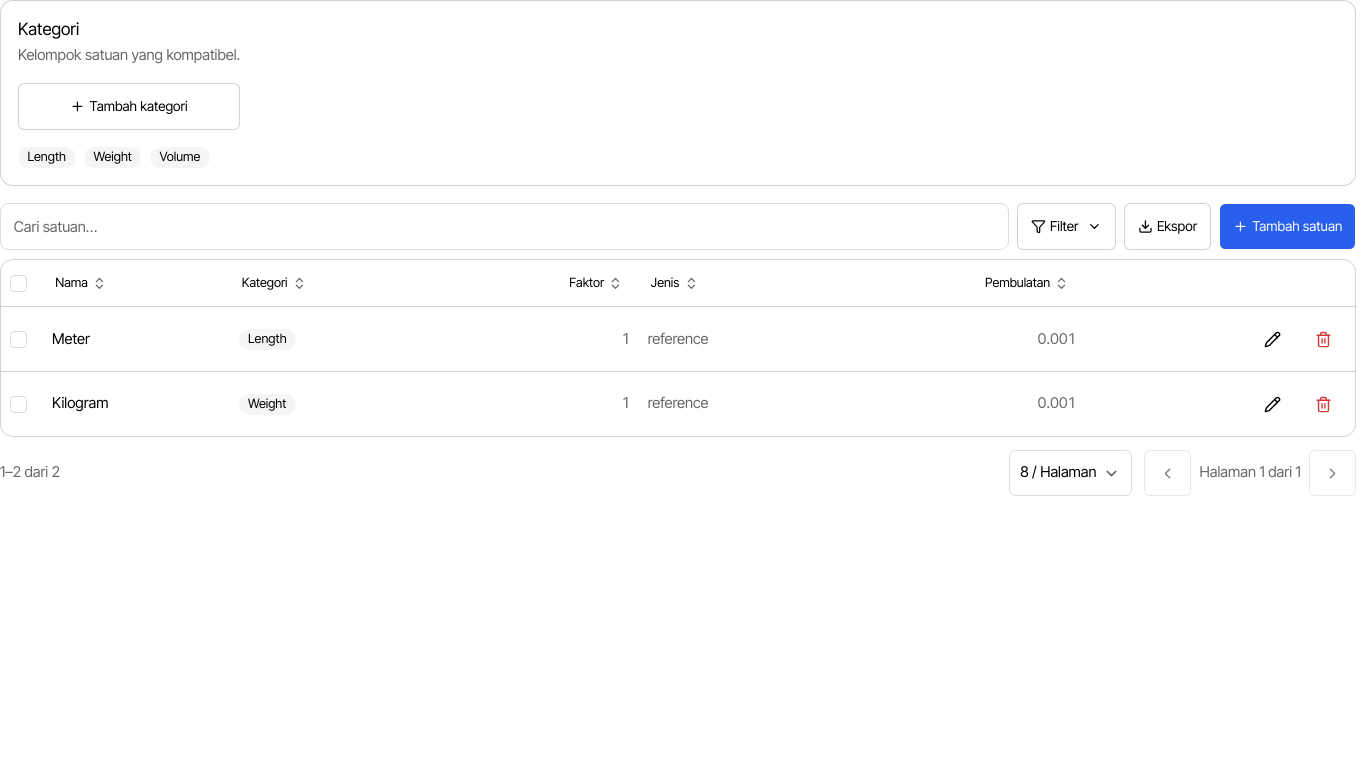
it: UnitsSection › requires a name when adding a UoM
The width and height of the screenshot is (1366, 768).
What coordinates should you click on to do the following:
click the button "Tambah satuan"
I would click on:
 (1288, 227)
Its box is [1219,203,1356,250].
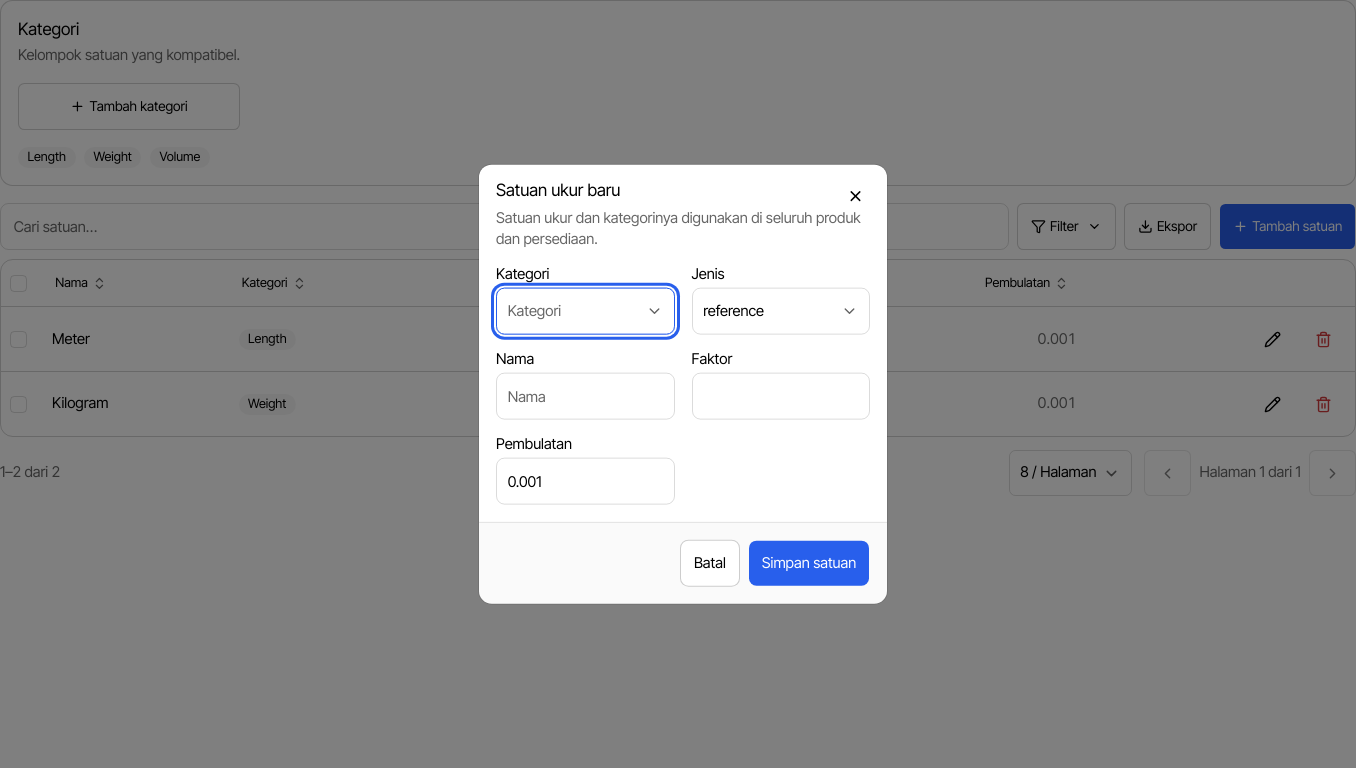
What coordinates should you click on to do the following:
click the button "Simpan satuan"
I would click on:
 (809, 563)
Its box is [748,540,870,586].
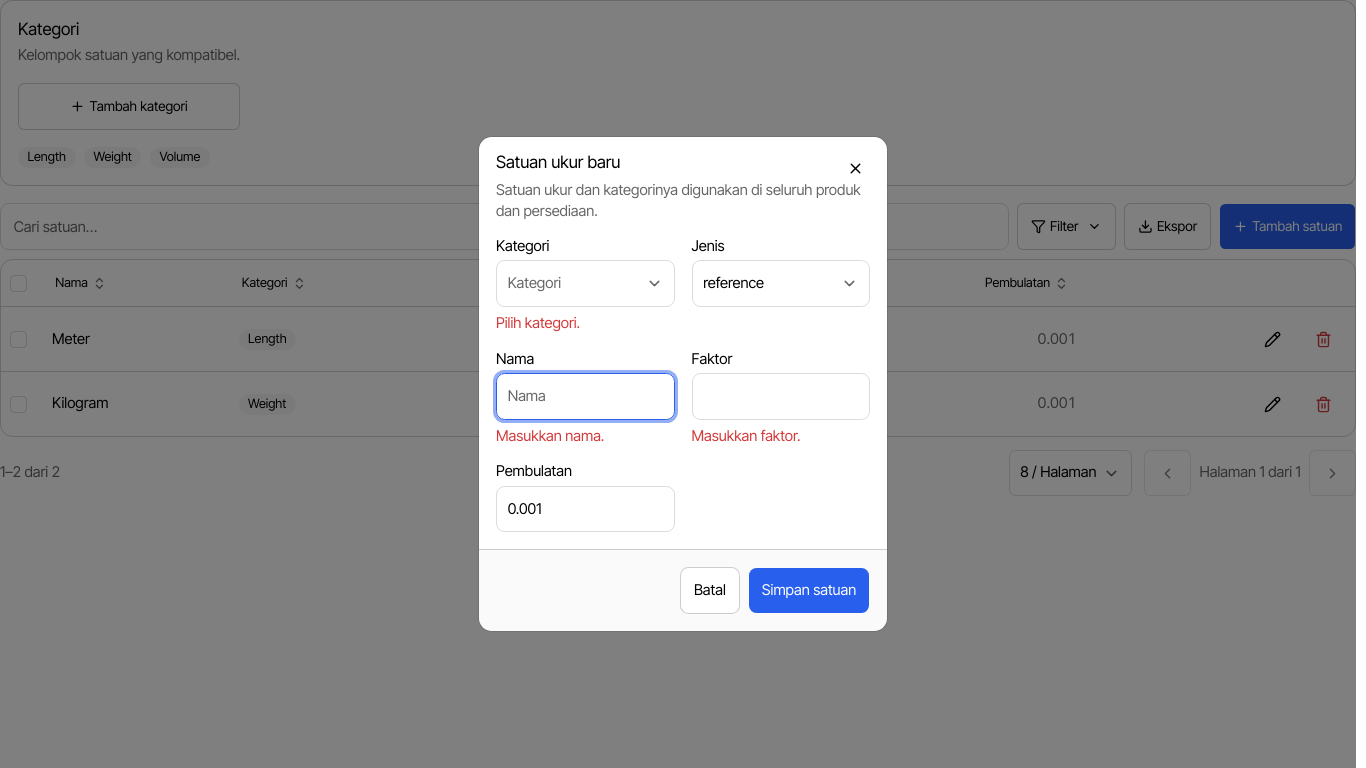
Now the text "Masukkan nama." is shown, box [496,427,604,445]
